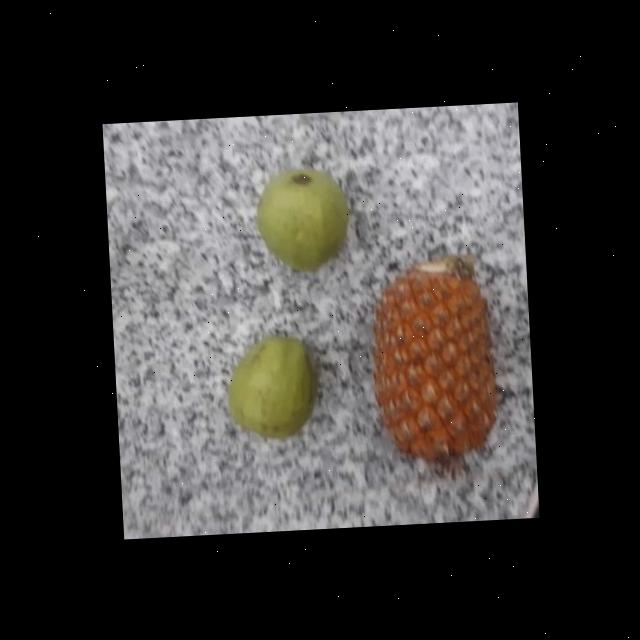guava: (248, 165, 356, 272), (222, 336, 326, 440)
